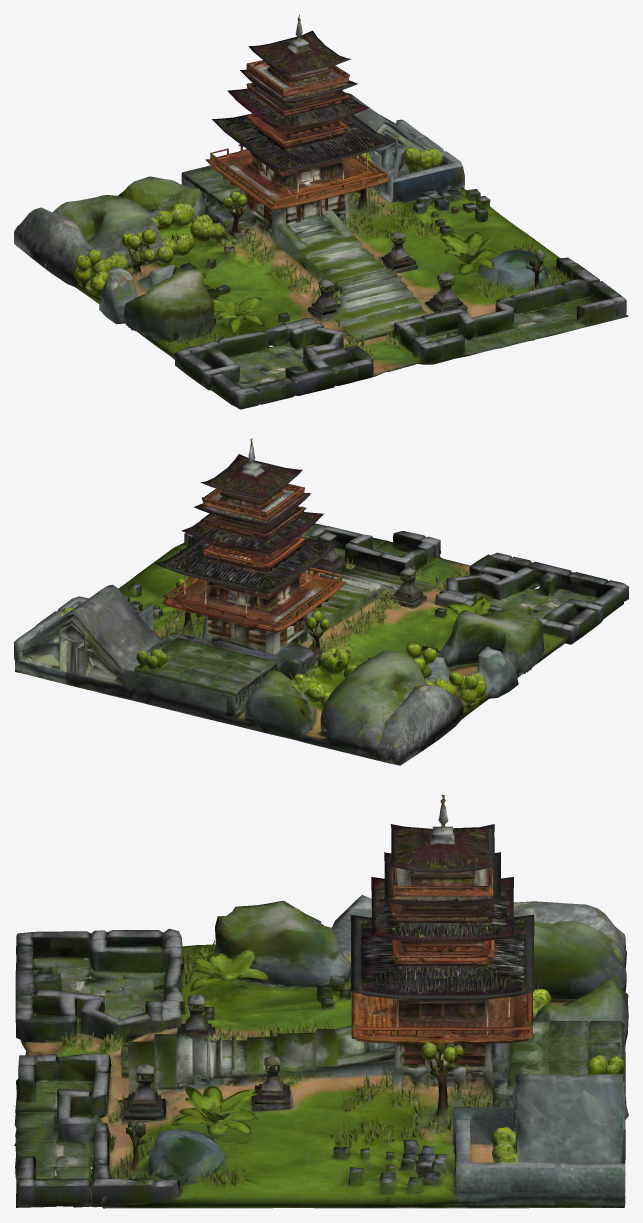
The model's file is Five_Tier_Pagoda_Gard.glb.
3 renders of one model, top to bottom at view 1: azimuth 30°, elevation 25°; view 2: azimuth 150°, elevation 25°; view 3: azimuth 270°, elevation 25°, orthographic. The views are drawn at different scales.
Parts seen in each view (by area): view 1: Five_Tier_Pagoda_Gard; view 2: Five_Tier_Pagoda_Gard; view 3: Five_Tier_Pagoda_Gard.
Boxes of the visible parts, x1,y1,x2,y2 form: Five_Tier_Pagoda_Gard: (14, 14, 628, 409); Five_Tier_Pagoda_Gard: (14, 438, 628, 765); Five_Tier_Pagoda_Gard: (14, 794, 628, 1208).
Size of the model in its own units: 1.9 by 1.04 by 1.9.
1 material, 1 textured.
